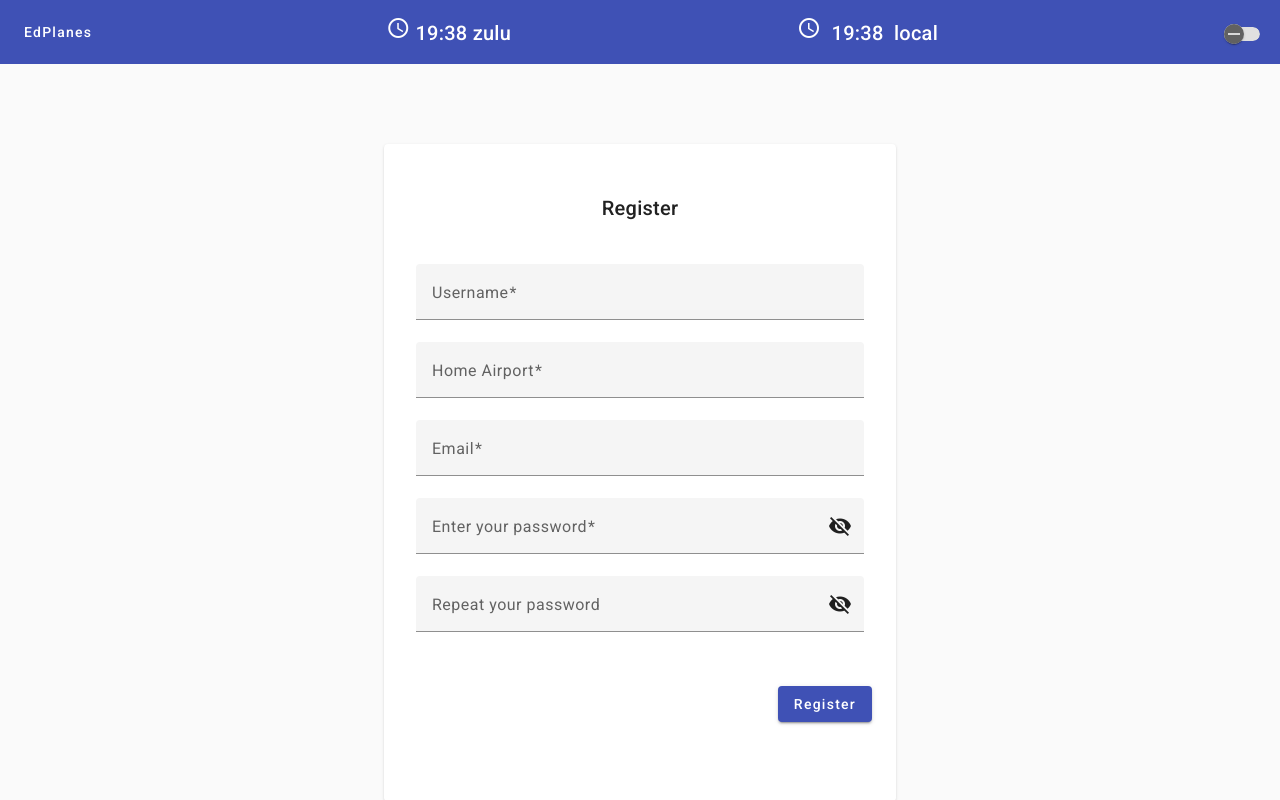
Test: Register page › search airports from db
The width and height of the screenshot is (1280, 800).
Type "ep" into the dropdown named "homeAirport" at (640, 378), box [432, 366, 848, 390]
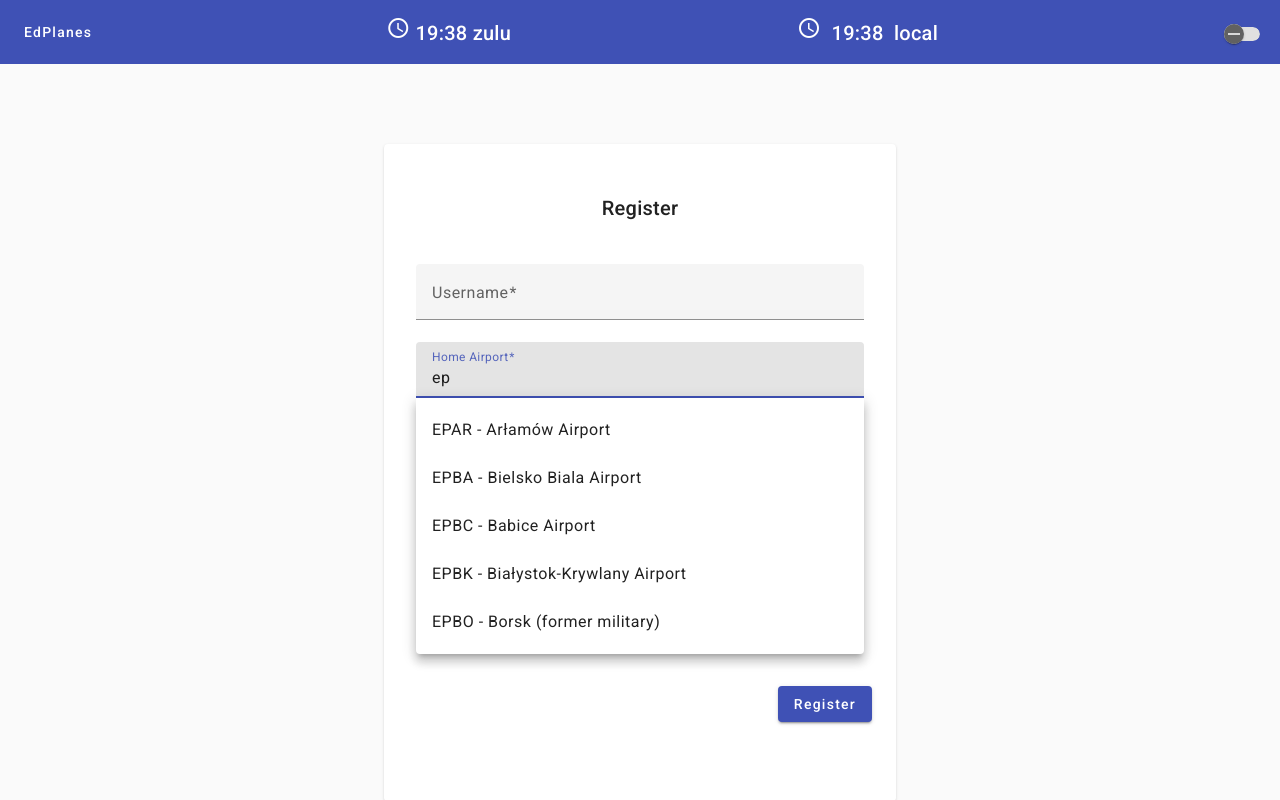
Click the text "EPAR" at (522, 430), box [432, 418, 611, 442]
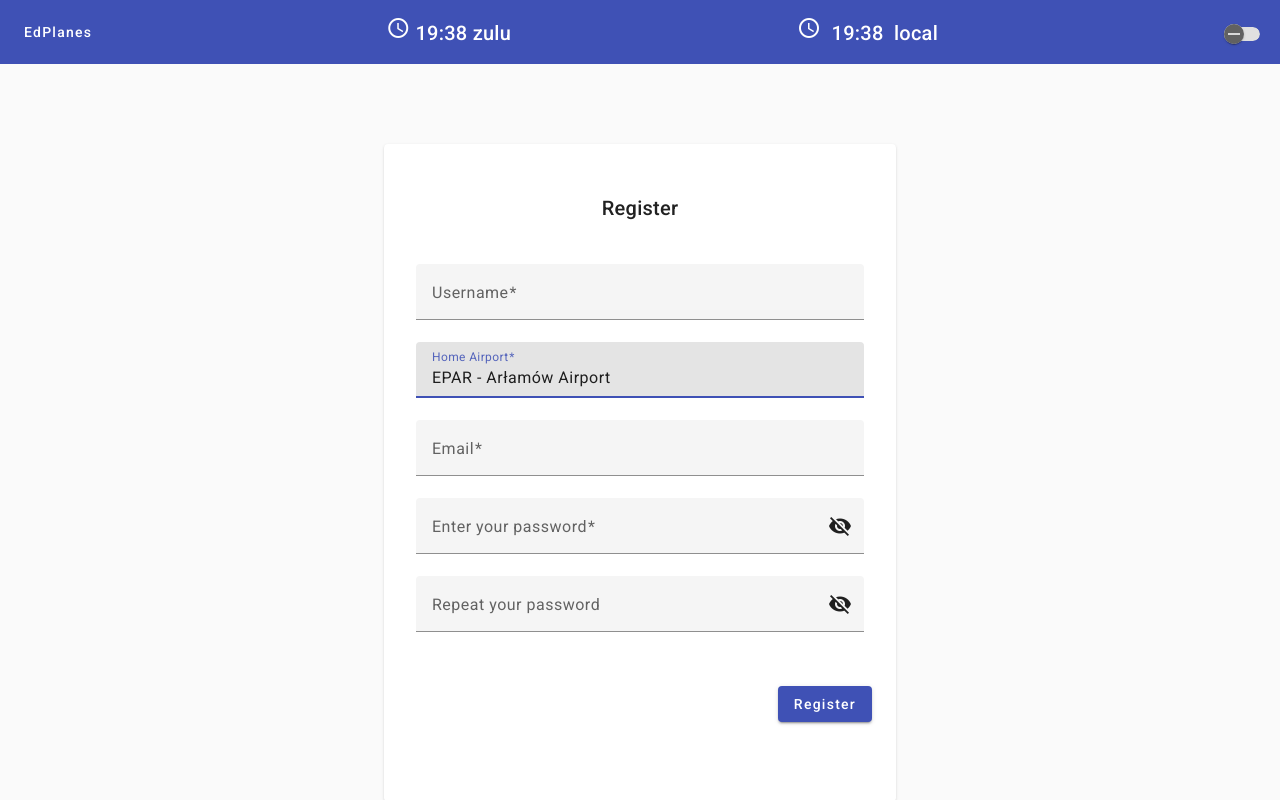
expect the dropdown named "homeAirport" holds "EPAR - Arłamów Airport": met, box [432, 366, 848, 390]
